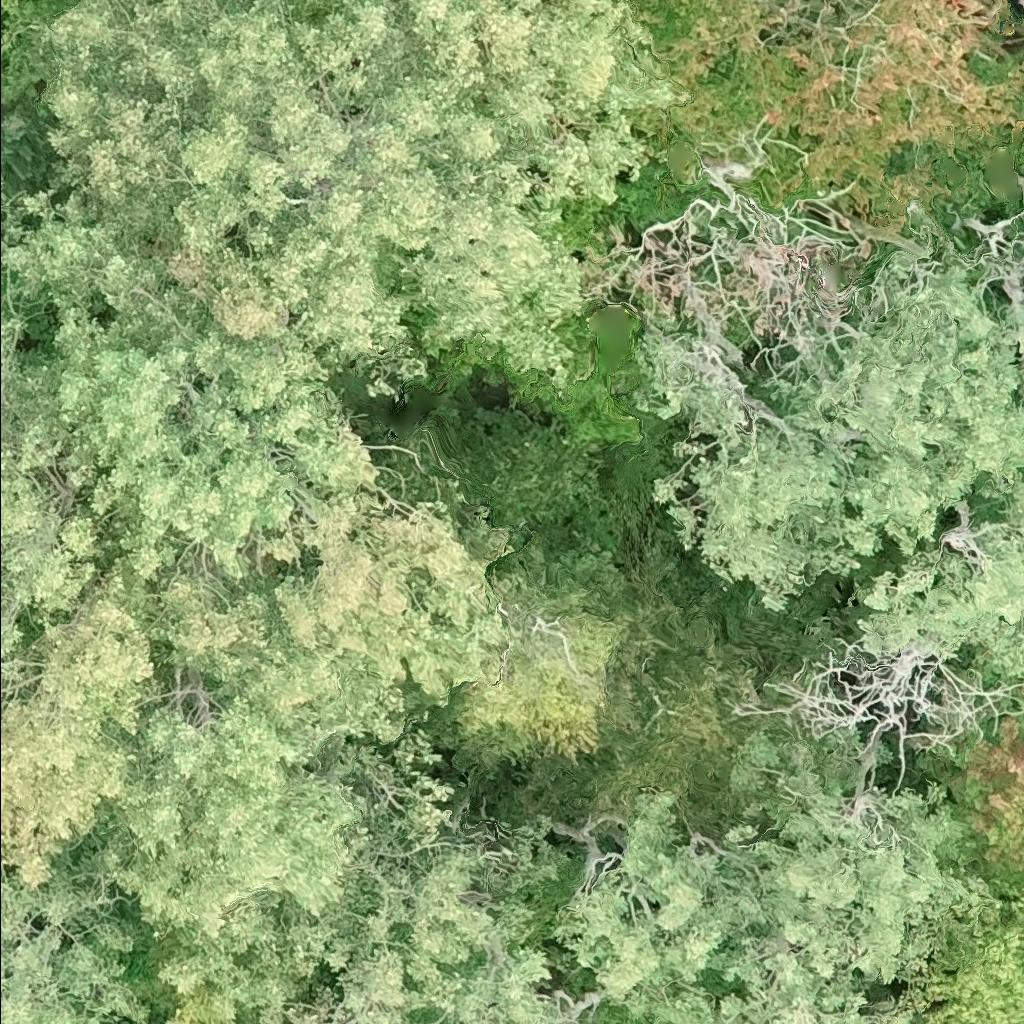crown: (0, 204, 621, 788), (23, 0, 650, 396), (638, 249, 1023, 673), (0, 703, 449, 1023), (0, 310, 167, 898), (570, 787, 980, 1023), (279, 0, 695, 146), (262, 855, 581, 1023), (760, 0, 1023, 200), (630, 0, 809, 207), (933, 707, 1023, 901), (908, 899, 1023, 1023), (0, 93, 58, 195), (0, 0, 77, 61), (236, 0, 252, 7), (0, 170, 3, 203)
